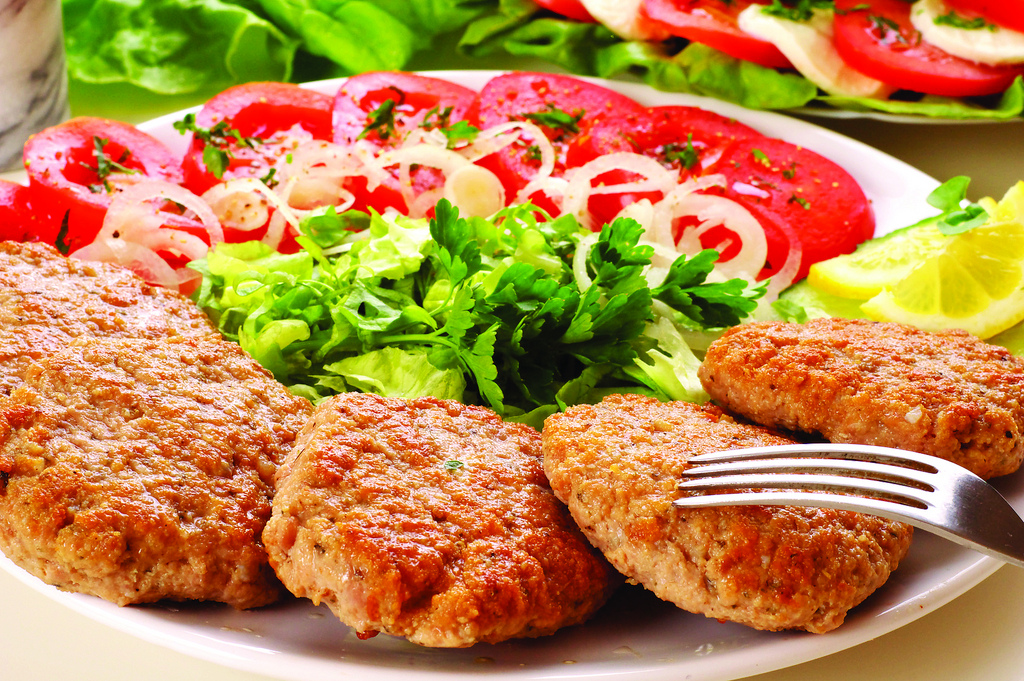chopped lettuce: (218, 220, 713, 399)
meatballs: (265, 405, 586, 637), (12, 359, 289, 613), (550, 405, 888, 611), (720, 317, 1014, 462)
